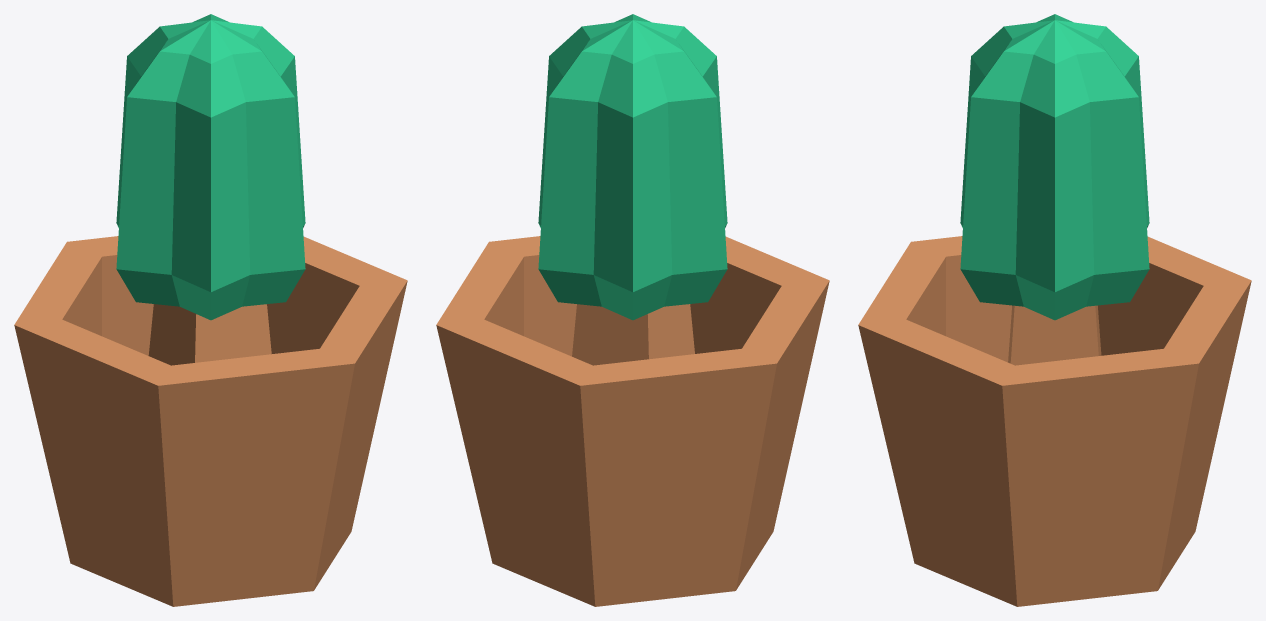
The model's file is plantSmall2.dae.
3 renders of one model, left to right at view 1: azimuth 30°, elevation 25°; view 2: azimuth 150°, elevation 25°; view 3: azimuth 270°, elevation 25°, orthographic.
Visible parts, largest first — view 1: plantSmall2; view 2: plantSmall2; view 3: plantSmall2.
Part boxes in pixels (x1,y1,x2,y2): plantSmall2: [14, 14, 407, 606]; plantSmall2: [436, 14, 829, 606]; plantSmall2: [858, 14, 1251, 606].
Bounding box in the file's own units: 0.0947 × 0.14 × 0.0947.
